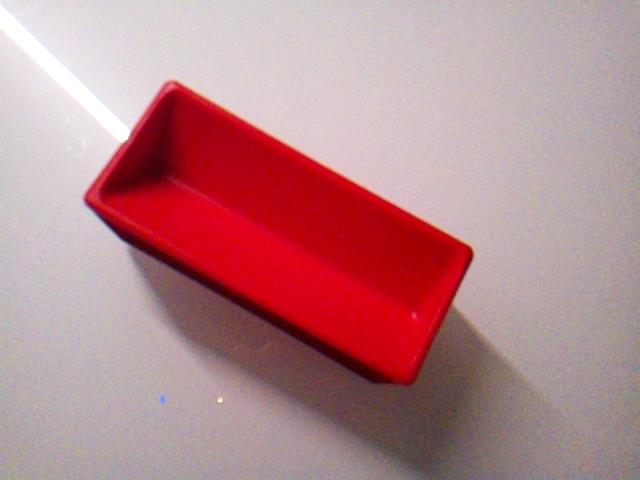red: (83, 78, 476, 387)
